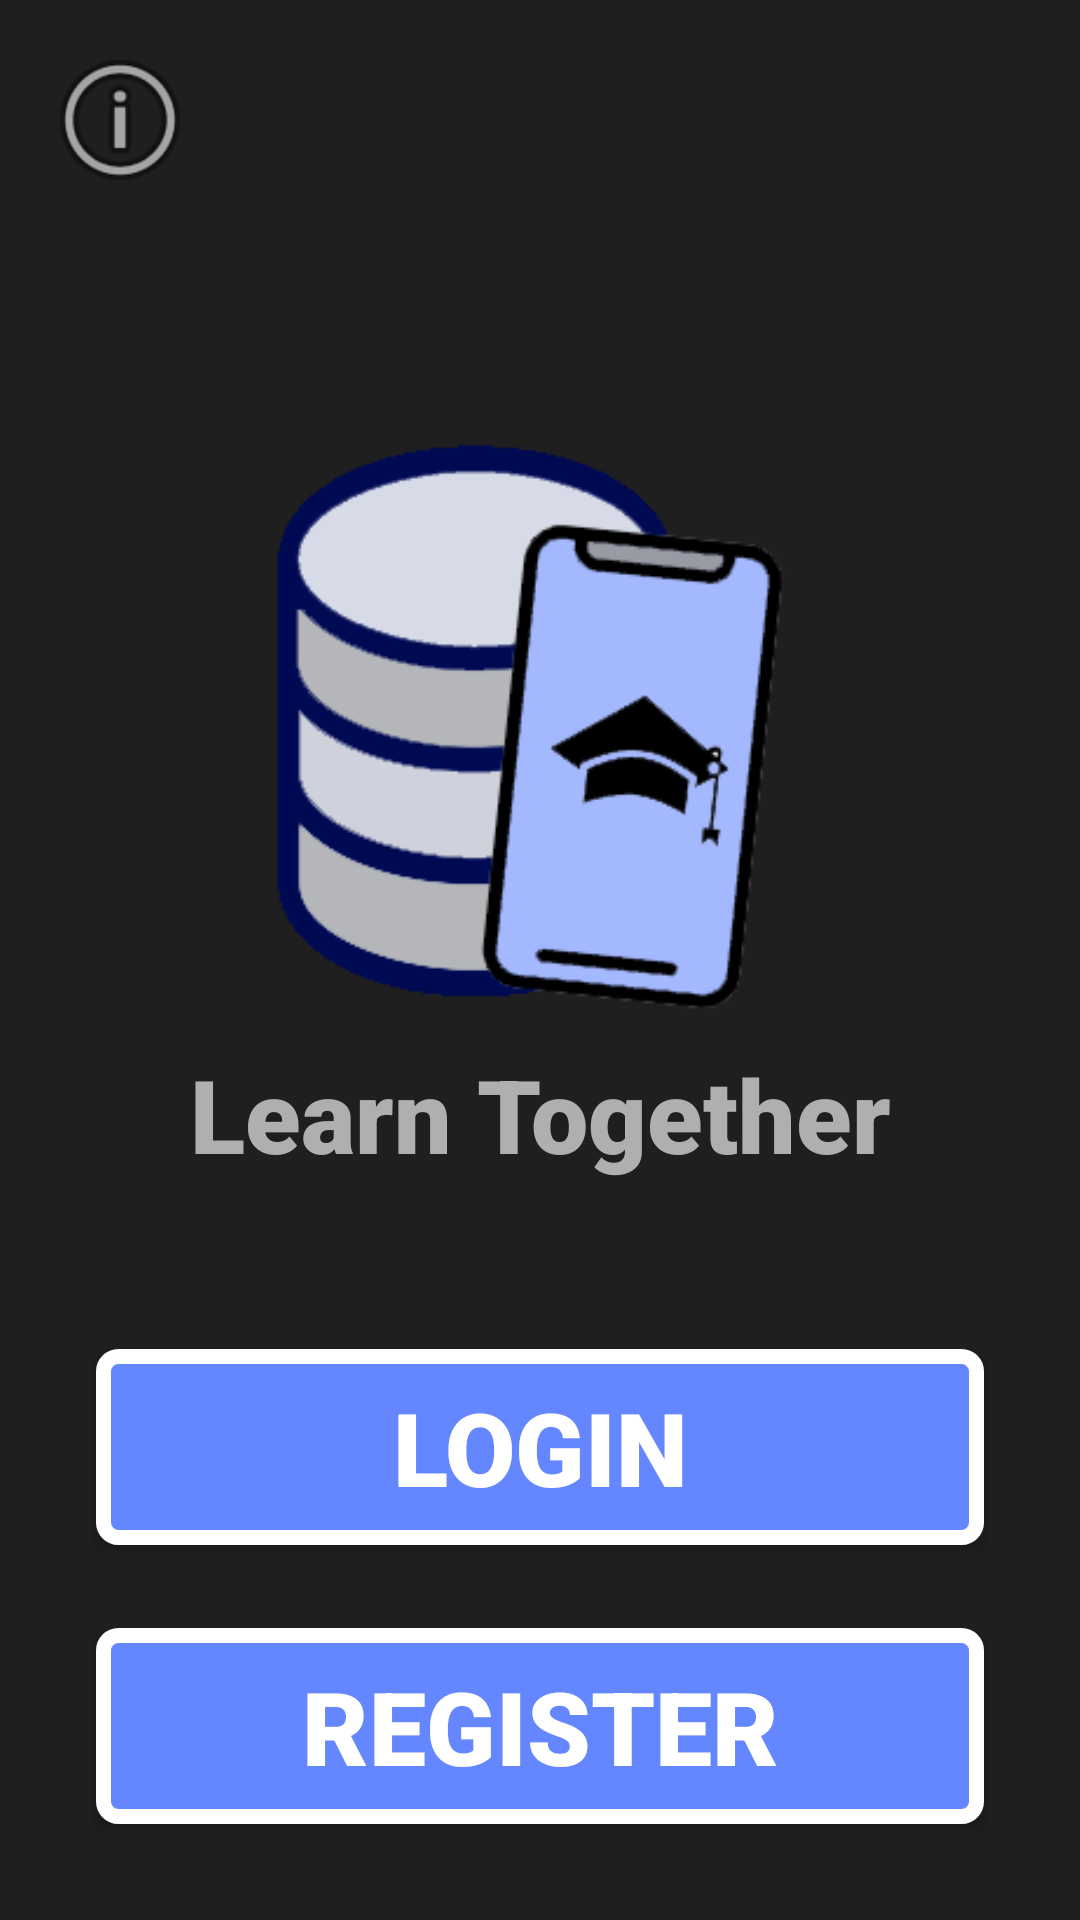

Named icons in this screenshot (1080x1920) and their bounding boxes, (x1, y1, x2, y2):
info details: (65, 65, 175, 175)
